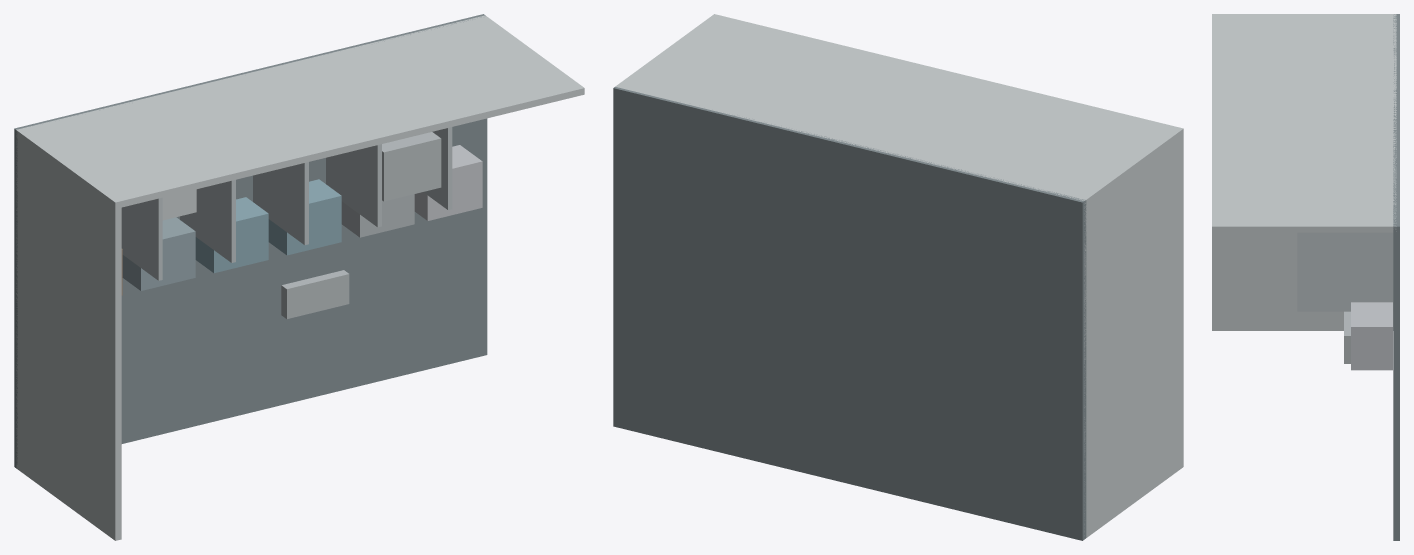
Rendered from cme-room-medium.glb.
The picture shows the model from 3 angles, left to right: view 1: azimuth 30°, elevation 25°; view 2: azimuth 150°, elevation 25°; view 3: azimuth 270°, elevation 25°; orthographic projection. The views are drawn at different scales.
Parts seen in each view (by area): view 1: floor, wall_back, wall_left, autoclave, flow_marker_3, flow_marker_4, flow_marker_2, cleaning, flow_marker_1, inspection, packing, sterile_storage (+4 smaller); view 2: floor, wall_back, wall_left; view 3: wall_back, wall_left, flow_marker_5, floor, sterile_storage, instrument_tray_proxy.
Boxes of the visible parts, box(x1,y1,x2,y2) form: floor: box(14, 14, 487, 468); wall_back: box(16, 15, 584, 208); wall_left: box(16, 130, 121, 540); autoclave: box(382, 132, 441, 201); flow_marker_3: box(253, 162, 308, 245); flow_marker_4: box(326, 144, 381, 227); flow_marker_2: box(180, 180, 235, 262); cleaning: box(122, 217, 195, 290); flow_marker_1: box(121, 197, 162, 280); inspection: box(195, 197, 268, 273); packing: box(268, 179, 341, 255); sterile_storage: box(414, 145, 482, 220); floor: box(613, 87, 1086, 540); wall_back: box(615, 14, 1183, 206); wall_left: box(1084, 129, 1183, 537); wall_back: box(1212, 14, 1396, 232); wall_left: box(1212, 14, 1393, 330); flow_marker_5: box(1297, 232, 1393, 311); floor: box(1393, 14, 1399, 540); sterile_storage: box(1351, 302, 1392, 370); instrument_tray_proxy: box(1344, 311, 1350, 363).
Size of the model in its own units: 9 by 6.2 by 3.36.
